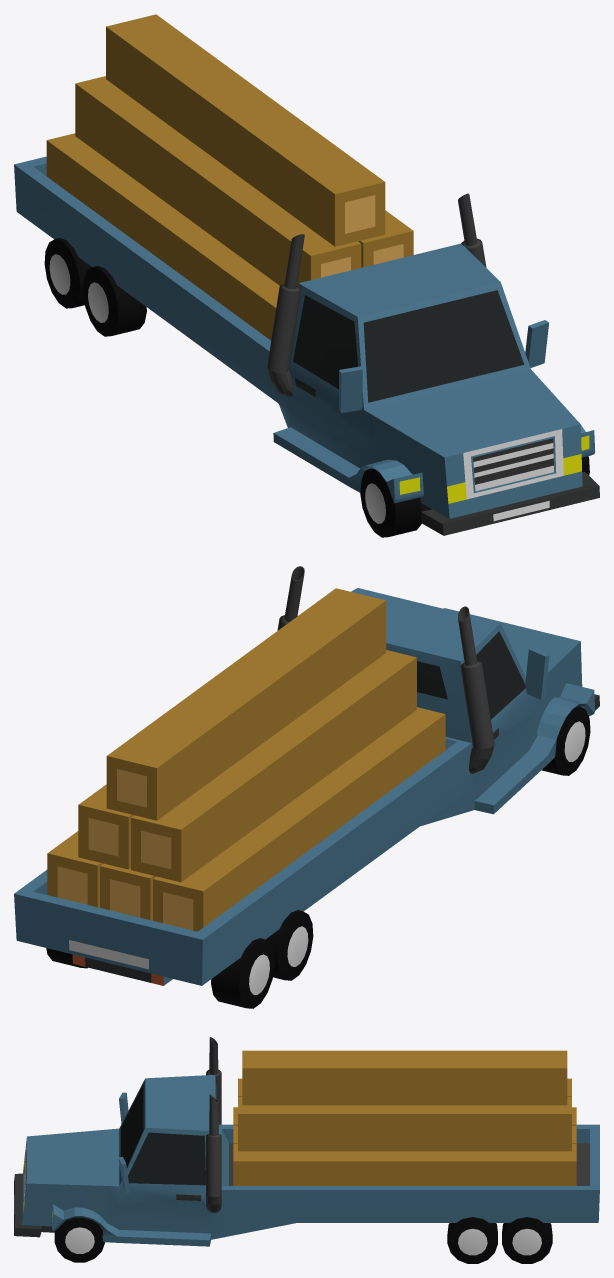
File: WoodTruck.fbx
3 views of the same model, one above another, from view 1: azimuth 30°, elevation 25°; view 2: azimuth 150°, elevation 25°; view 3: azimuth 270°, elevation 25° (orthographic). The views are drawn at different scales.
Visible parts, largest first — view 1: Body6, pCube10, pCube9, pCube6, pCylinder2, WheelRL6, WheelRL4, WheelRL2, pCube8, pCube3, pCylinder1, pCube2; view 2: Body6, pCube10, pCube9, pCube6, pCube8, pCylinder2, WheelRL2, pCube5, pCube7, WheelRL6, WheelRL4, pCube3 (+1 smaller); view 3: Body6, pCube10, pCube8, pCube5, WheelRL1, WheelRL5, WheelRL3, pCylinder1, pCylinder2.
Part boxes in pixels (x1=…): Body6: x1=14, y1=156, x2=599, y2=535; pCube10: x1=106, y1=14, x2=385, y2=246; pCube9: x1=75, y1=76, x2=361, y2=286; pCube6: x1=46, y1=133, x2=279, y2=340; pCylinder2: x1=267, y1=234, x2=304, y2=397; WheelRL6: x1=83, y1=266, x2=146, y2=336; WheelRL4: x1=360, y1=468, x2=421, y2=537; WheelRL2: x1=44, y1=238, x2=92, y2=308; pCube8: x1=358, y1=210, x2=413, y2=267; pCube3: x1=339, y1=366, x2=362, y2=413; pCylinder1: x1=458, y1=193, x2=486, y2=267; pCube2: x1=525, y1=320, x2=548, y2=367; Body6: x1=14, y1=588, x2=599, y2=985; pCube10: x1=106, y1=588, x2=386, y2=820; pCube9: x1=131, y1=650, x2=416, y2=882; pCube6: x1=153, y1=707, x2=445, y2=931; pCube8: x1=78, y1=784, x2=133, y2=869; pCylinder2: x1=458, y1=606, x2=494, y2=773; WheelRL2: x1=211, y1=938, x2=274, y2=1008; pCube5: x1=47, y1=831, x2=103, y2=907; pCube7: x1=100, y1=863, x2=156, y2=920; WheelRL6: x1=265, y1=910, x2=313, y2=980; WheelRL4: x1=542, y1=706, x2=590, y2=775; pCube3: x1=525, y1=648, x2=549, y2=699; Body6: x1=14, y1=1075, x2=599, y2=1246; pCube10: x1=242, y1=1050, x2=567, y2=1105; pCube8: x1=238, y1=1096, x2=571, y2=1151; pCube5: x1=233, y1=1143, x2=576, y2=1185; WheelRL1: x1=502, y1=1217, x2=552, y2=1263; WheelRL5: x1=447, y1=1217, x2=497, y2=1263; WheelRL3: x1=54, y1=1217, x2=104, y2=1262; pCylinder1: x1=206, y1=1094, x2=221, y2=1212; pCylinder2: x1=206, y1=1037, x2=221, y2=1124.
Size of the model in its own units: 3.69 by 3.78 by 11.76.
